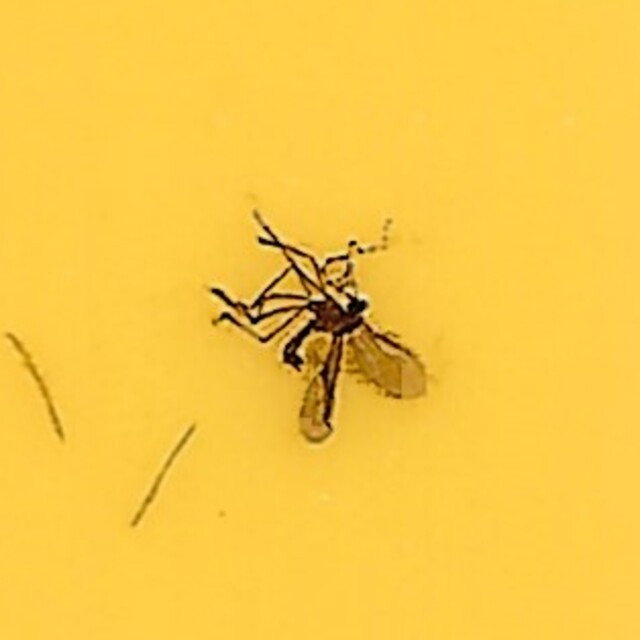Nematocera: (204, 208, 436, 432)
